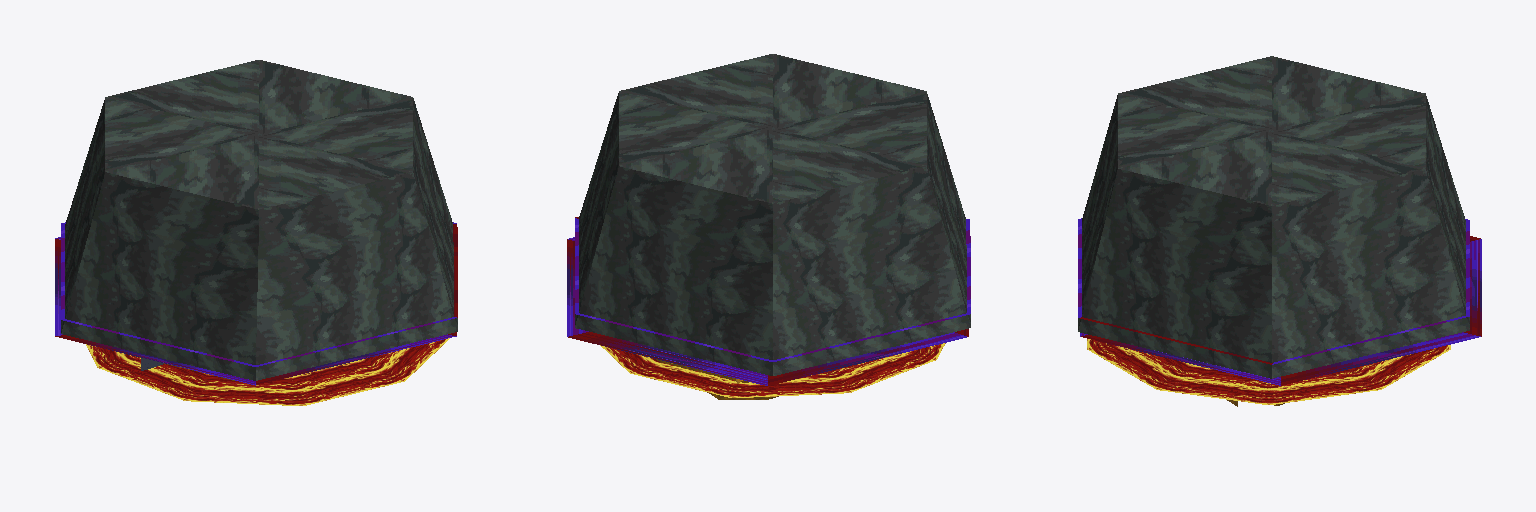
The picture shows the model from 3 angles: view 1: azimuth 30°, elevation 25°; view 2: azimuth 150°, elevation 25°; view 3: azimuth 270°, elevation 25°; orthographic projection.
Visible parts, largest first — view 1: polygon12, polygon17, polygon15; view 2: polygon12, polygon17, polygon15; view 3: polygon12, polygon17, polygon15.
Part boxes in pixels (x1,y1,x2,y2): polygon12: (61,60,457,380); polygon17: (86,338,449,405); polygon15: (55,222,457,385); polygon12: (575,54,970,375); polygon17: (600,343,945,397); polygon15: (567,217,970,385); polygon12: (1078,56,1469,378); polygon17: (1087,339,1450,404); polygon15: (1078,218,1481,385).
Size of the model in its own units: 173 by 102 by 151.
Materials: 38 (35 with a texture image).